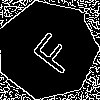F: (22, 24, 79, 77)
